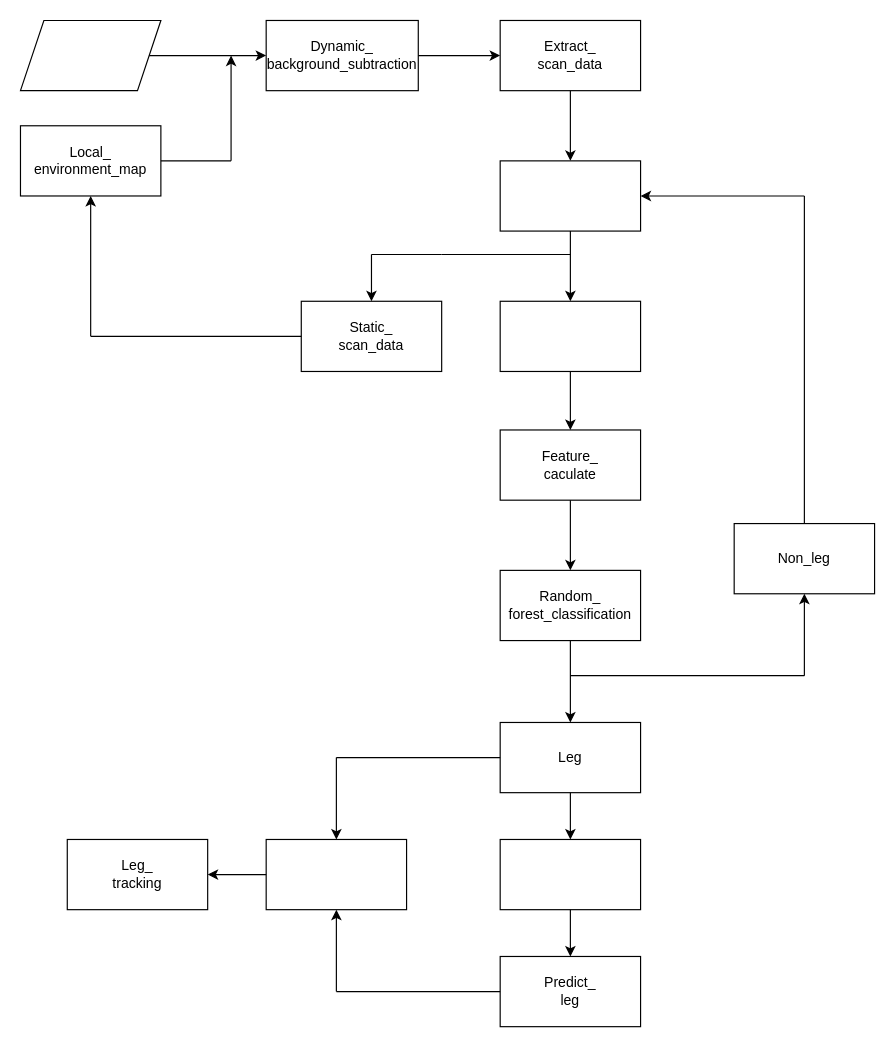
Image size: 895x1047. Some labels were removed from this diagram. The shapes that lost their labels are listed below. From the top down, each one's centre as x and y in pixels, then its label:
At [90,55]: "LIDAR scan_data".
At [570,195]: "Occupancy_ grid_method".
At [570,335]: "Moving_ scan_data".
At [336,874]: "Data_ association".
At [570,874]: "Kalman_ filter".
